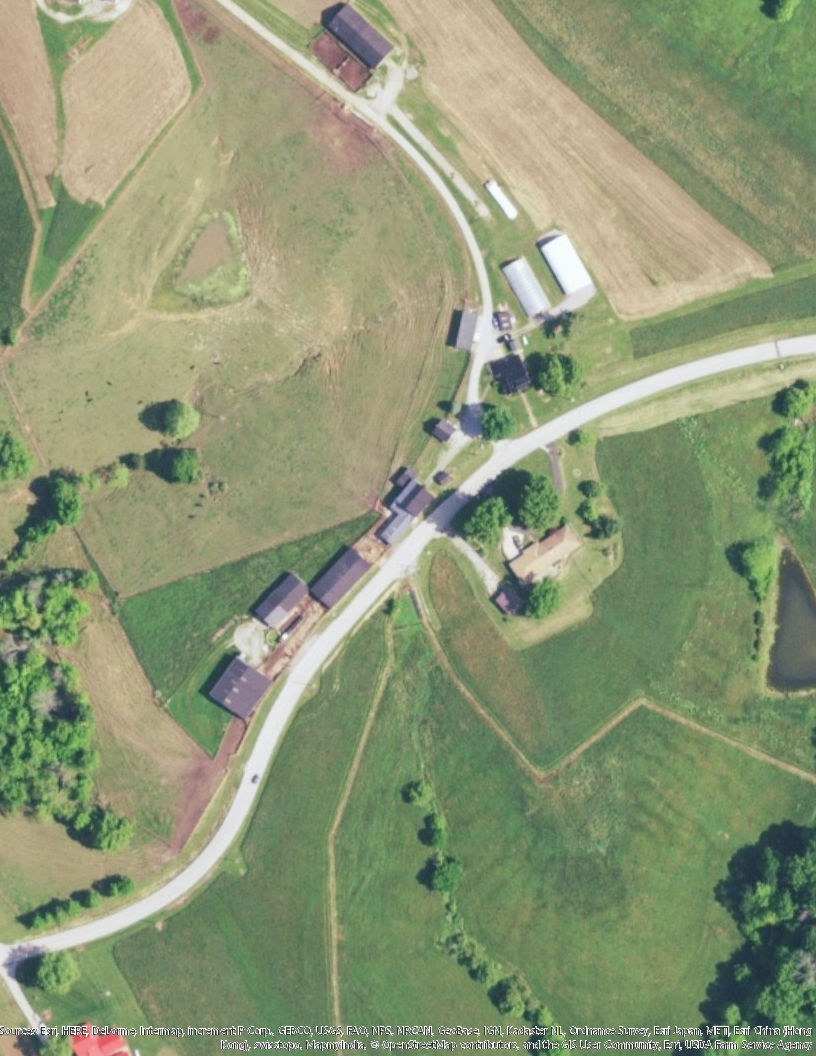cafo: (321, 2, 404, 76), (375, 465, 440, 547), (204, 657, 277, 726), (308, 545, 377, 613), (539, 230, 599, 298), (252, 564, 311, 632), (498, 253, 555, 321)
